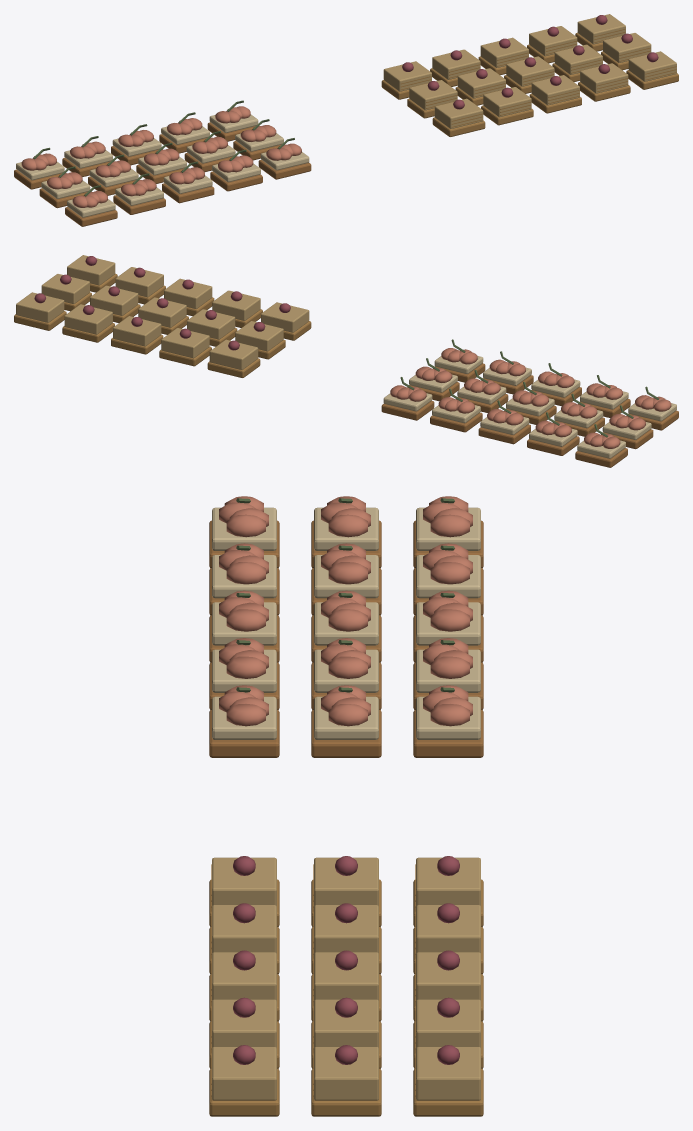
File: evening.glb
3 views of the same model, one above another, from view 1: azimuth 30°, elevation 25°; view 2: azimuth 150°, elevation 25°; view 3: azimuth 270°, elevation 25° (orthographic). The views are drawn at different scales.
Visible parts, largest first — view 1: evening; view 2: evening; view 3: evening.
Boxes of the visible parts, bbox=[...] form: evening: bbox=[14, 14, 678, 226]; evening: bbox=[14, 255, 678, 467]; evening: bbox=[209, 496, 483, 1116].
Size of the model in its own units: 1.27 by 0.063 by 0.2529.
